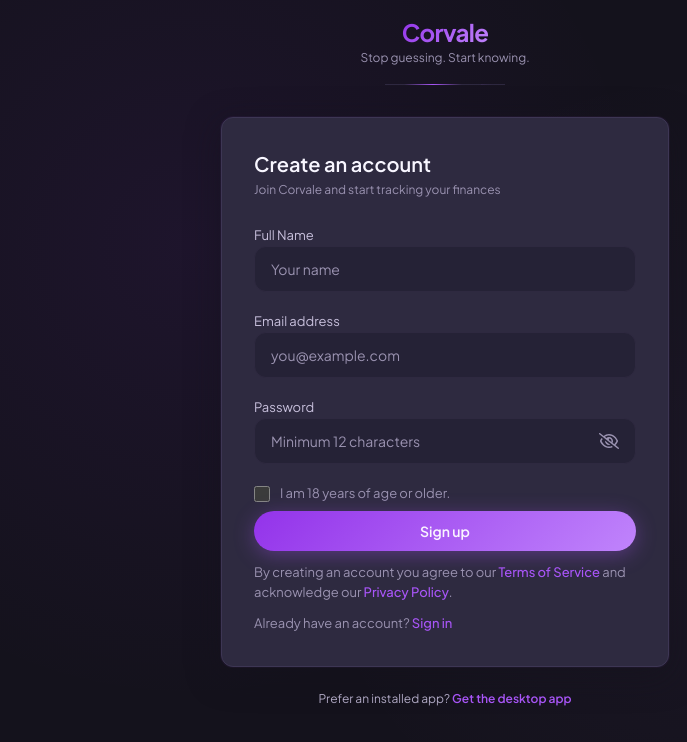
Test: Signup - legal consent (M0c) › rejects a sign-up that has not attested to being 18 or older
The width and height of the screenshot is (687, 742).
Type "Alex Kim" into the field with placeholder "Your name" at (445, 268), box [271,258,619,278]
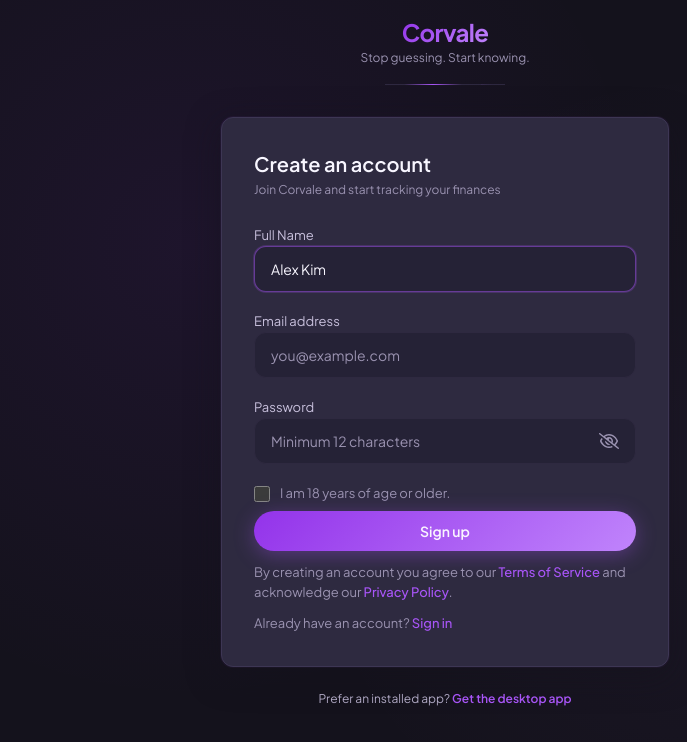
Type "alex@example.com" into the field with placeholder "you@example.com" at (445, 354), box [271,344,619,364]
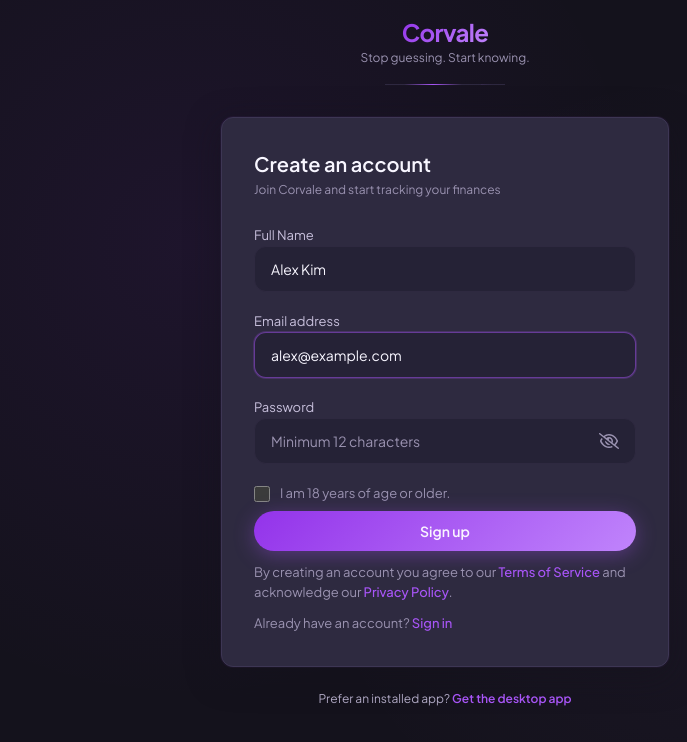
Type "correcthorsebattery" into the password field with placeholder "Minimum 12 characters" at (429, 440), box [271,430,587,450]
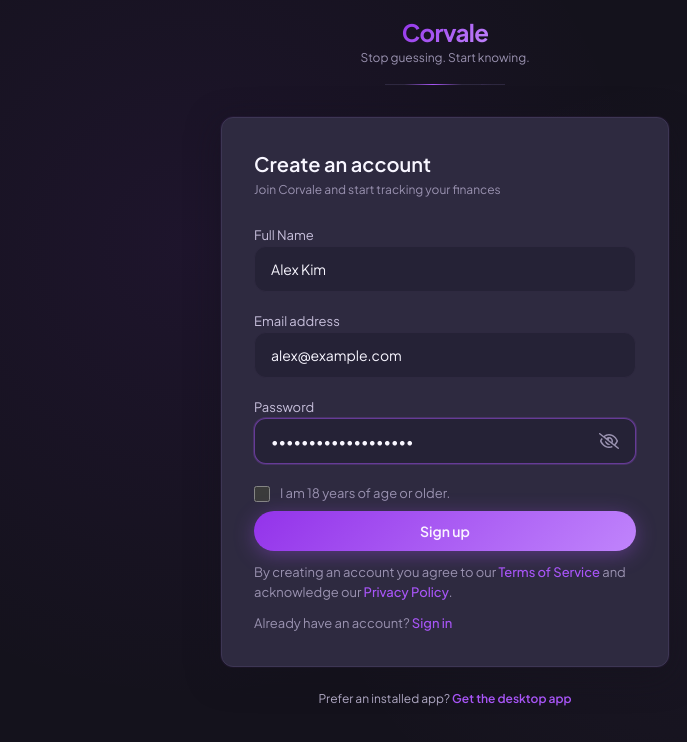
Click the button "Sign up" at (445, 531), box [254,511,636,551]
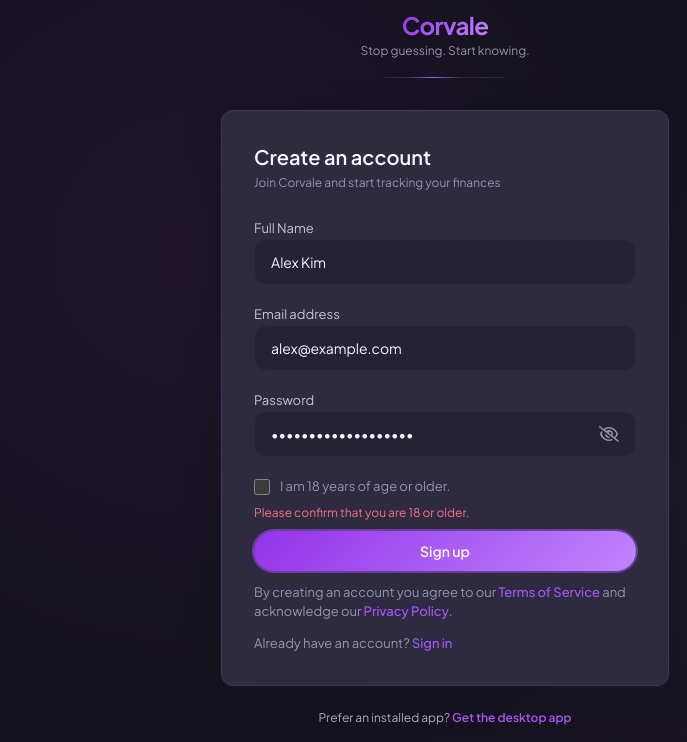
Now the text "Please confirm that you are 18 or older." is shown, box [254,504,469,520]
